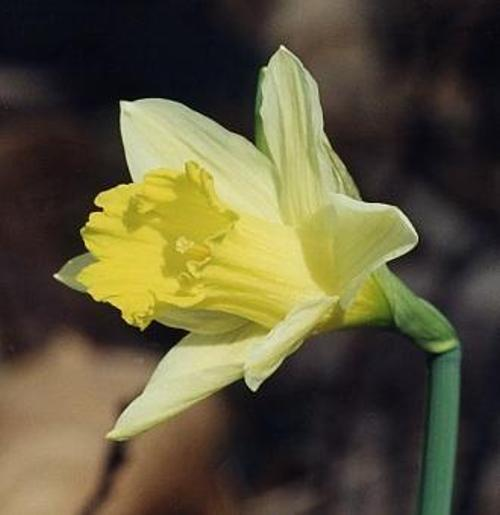flower1: (52, 44, 420, 443)
